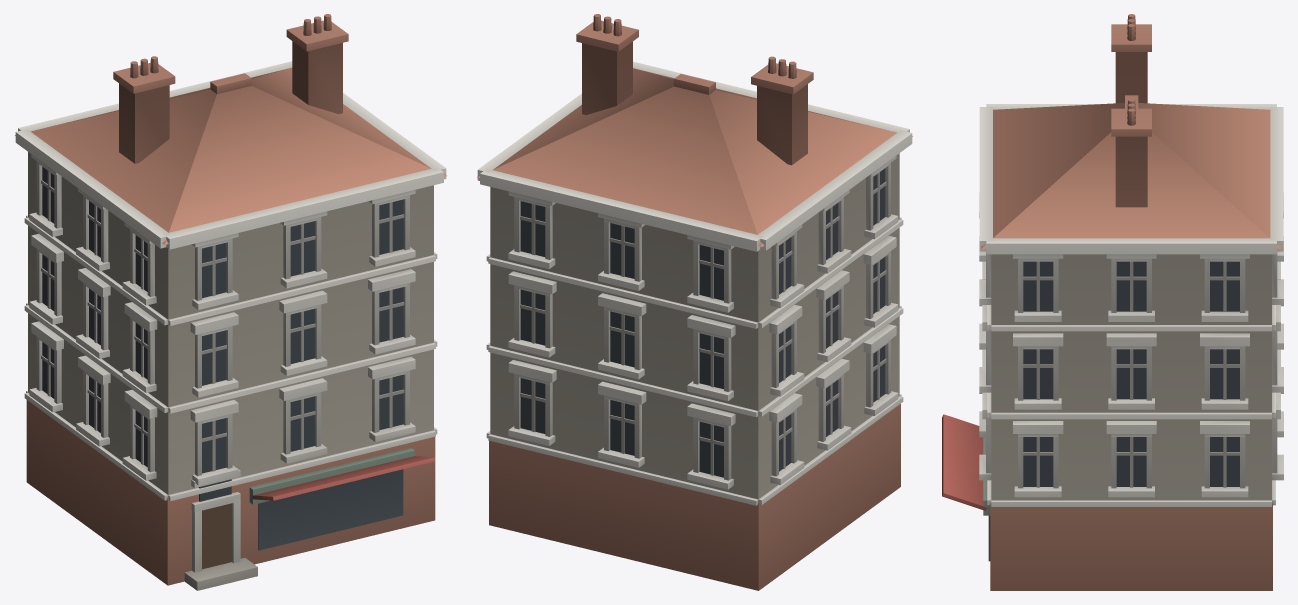
Rendered from house_industrial_3.glb.
The picture shows the model from 3 angles, left to right: view 1: azimuth 30°, elevation 25°; view 2: azimuth 150°, elevation 25°; view 3: azimuth 270°, elevation 25°; orthographic projection.
Parts seen in each view (by area): view 1: Body_Detail, Body_Wall, Body_Roof; view 2: Body_Detail, Body_Wall, Body_Roof; view 3: Body_Detail, Body_Wall, Body_Roof.
Boxes of the visible parts, <box> form: Body_Detail: <box>15,14,446,590</box>; Body_Wall: <box>28,152,433,494</box>; Body_Roof: <box>15,67,446,244</box>; Body_Detail: <box>477,14,912,590</box>; Body_Wall: <box>490,153,899,499</box>; Body_Roof: <box>477,68,912,246</box>; Body_Detail: <box>942,14,1283,590</box>; Body_Wall: <box>991,254,1271,500</box>; Body_Roof: <box>981,95,1281,248</box>.
Size of the model in its own units: 0.992 by 1.54 by 1.02.
